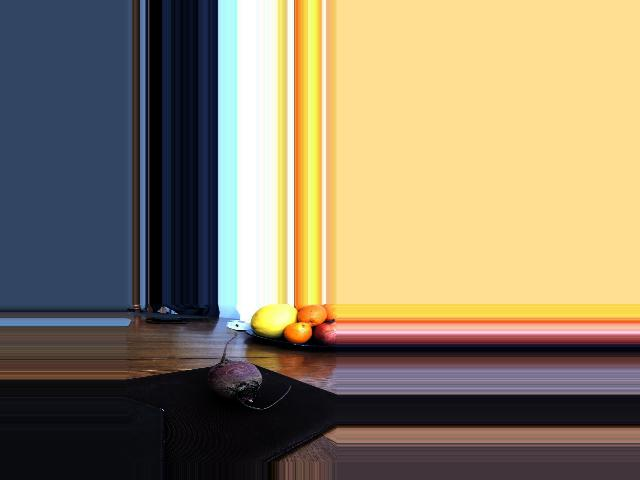beet: (207, 336, 290, 410)
